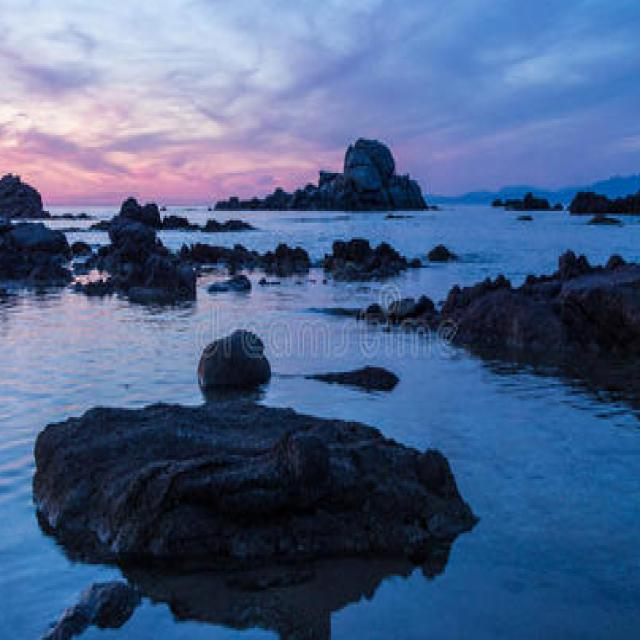reef: (95, 193, 437, 306)
